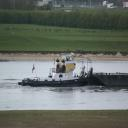tugboat: (17, 51, 95, 90)
